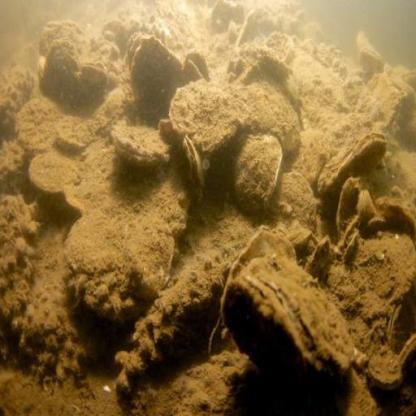Oyster- Indeterminate: (331, 130, 388, 196), (106, 120, 171, 165), (368, 81, 406, 136), (367, 345, 405, 394), (80, 59, 111, 105), (183, 138, 208, 193), (359, 47, 385, 78), (397, 332, 416, 369), (402, 67, 416, 91)
Oyster-Closed: (224, 258, 356, 396), (66, 188, 173, 323), (344, 229, 415, 331), (222, 228, 292, 324), (171, 78, 245, 152), (239, 84, 299, 161), (229, 132, 281, 215), (60, 145, 118, 214), (133, 40, 188, 112), (267, 172, 317, 240), (14, 100, 66, 154), (44, 38, 82, 101), (30, 151, 80, 193), (336, 180, 362, 234), (58, 114, 94, 145), (309, 238, 333, 275)
Oyster-Open: (184, 51, 210, 81)
